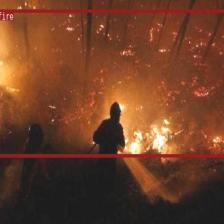fire: (0, 9, 224, 156)
